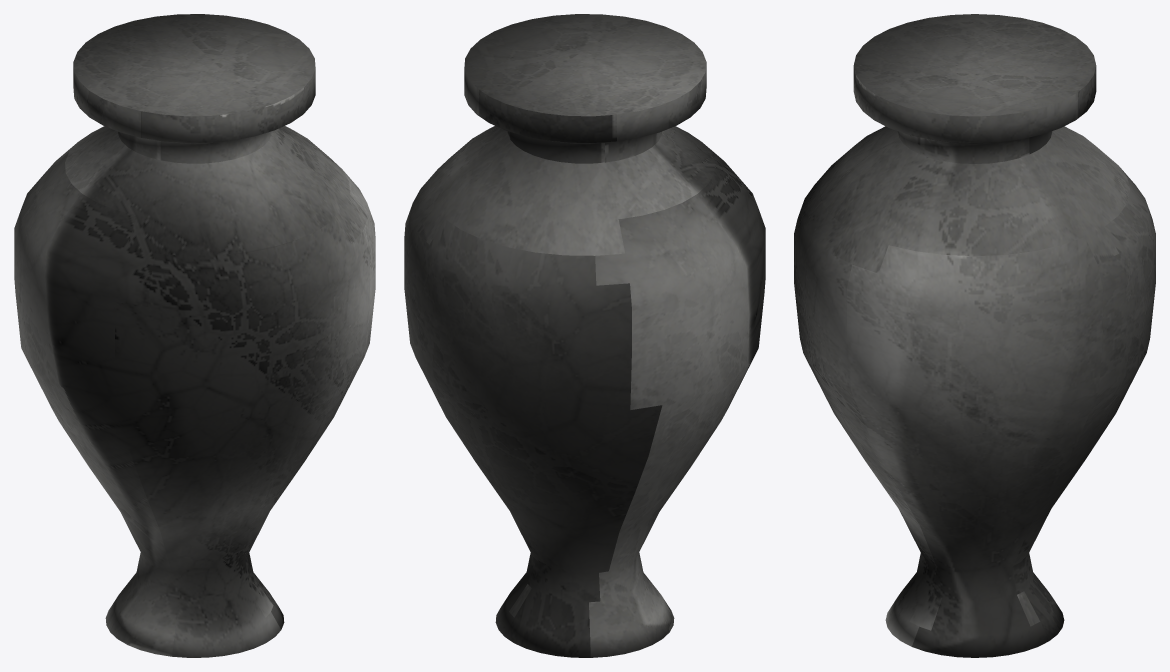
Rendered from Vase.glb.
The picture shows the model from 3 angles, left to right: view 1: azimuth 30°, elevation 25°; view 2: azimuth 150°, elevation 25°; view 3: azimuth 270°, elevation 25°; orthographic projection.
Visible parts, largest first — view 1: Big_Vase; view 2: Big_Vase; view 3: Big_Vase.
Part boxes in pixels (left/top/right/bottom): Big_Vase: left=14, top=14, right=375, bottom=657; Big_Vase: left=404, top=14, right=765, bottom=657; Big_Vase: left=794, top=14, right=1155, bottom=657.
Size of the model in its own units: 0.4592 by 0.7768 by 0.4592.
Materials: 1 (1 with a texture image).
